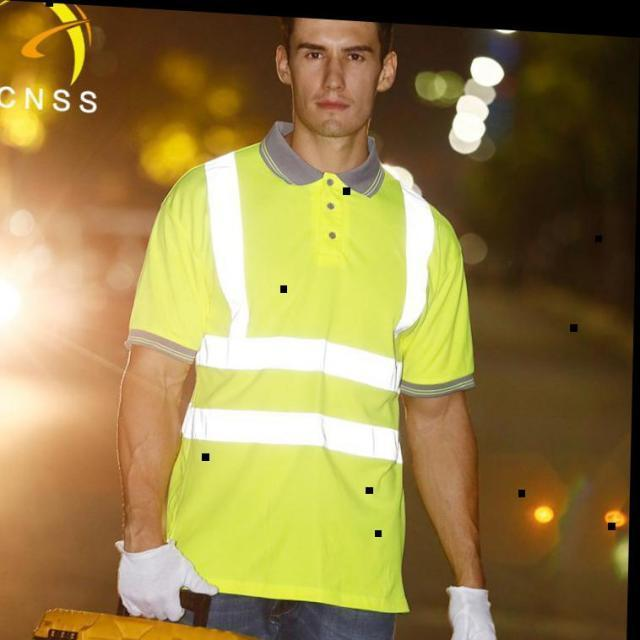safety_helmet: (123, 139, 448, 616)
